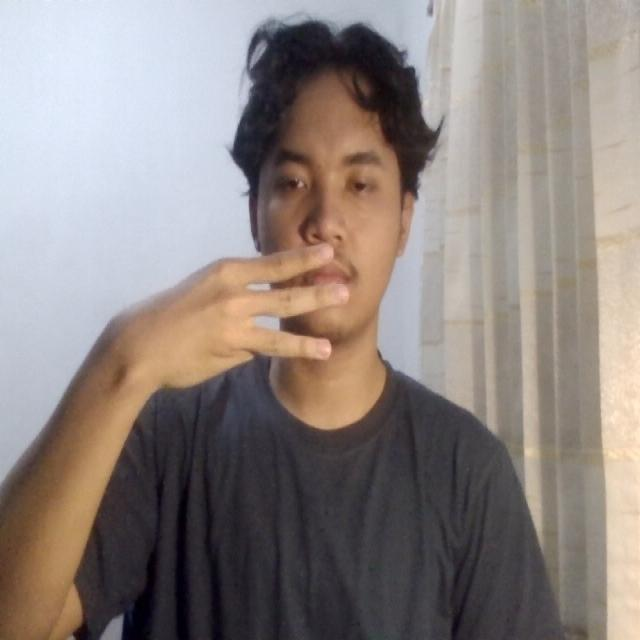E: (144, 232, 364, 404)
